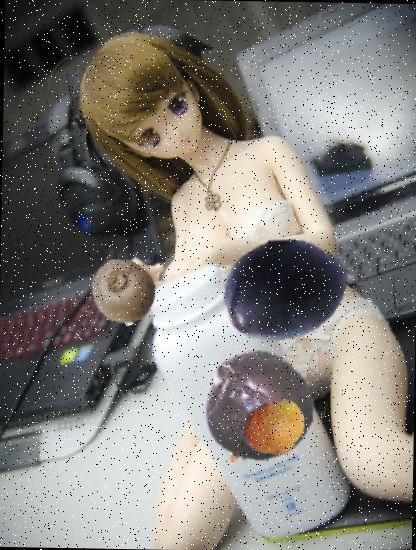Kiwi: (90, 256, 159, 325)
Mandarine: (241, 395, 307, 462)
Passion: (200, 347, 322, 469)
Plum: (221, 225, 350, 354)
